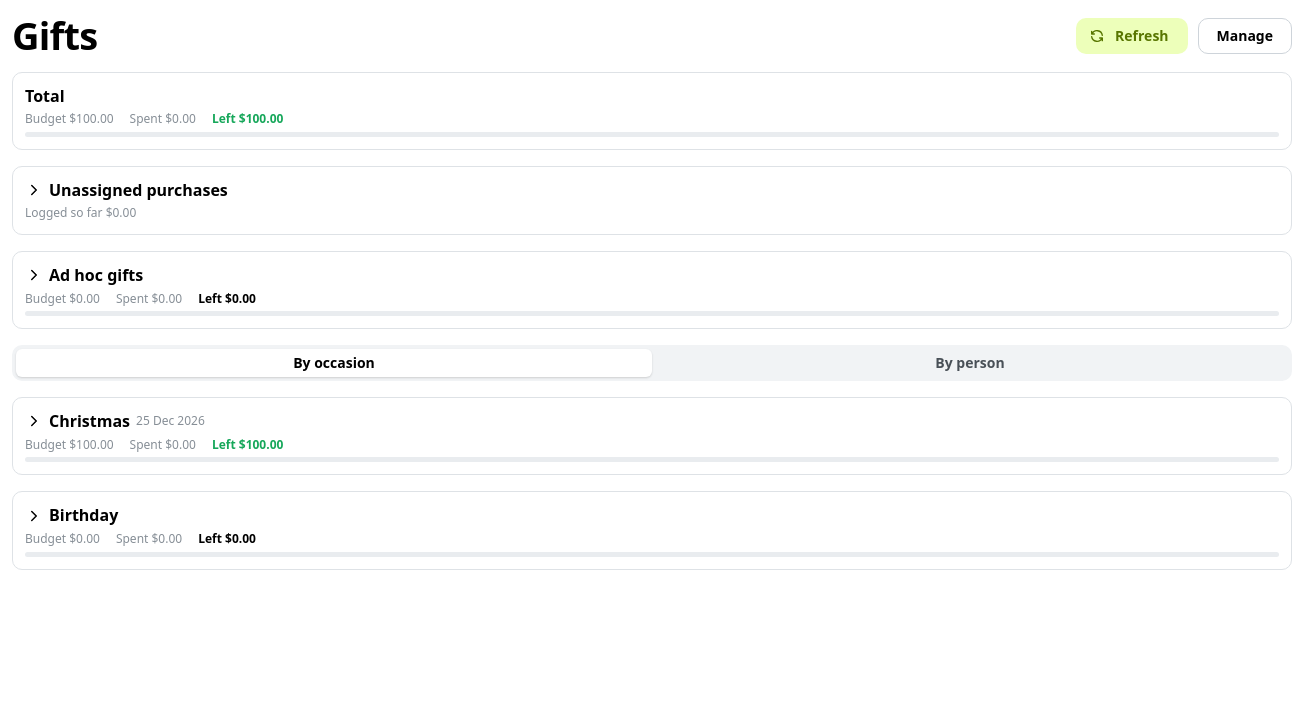
Test: GiftsScreen group budgets › shows an empty note for a group with no budgets
Click the button "Birthday Budget $0.00 Spent $0.00 Left $0.00": (84, 515) [25,504,1279,556]
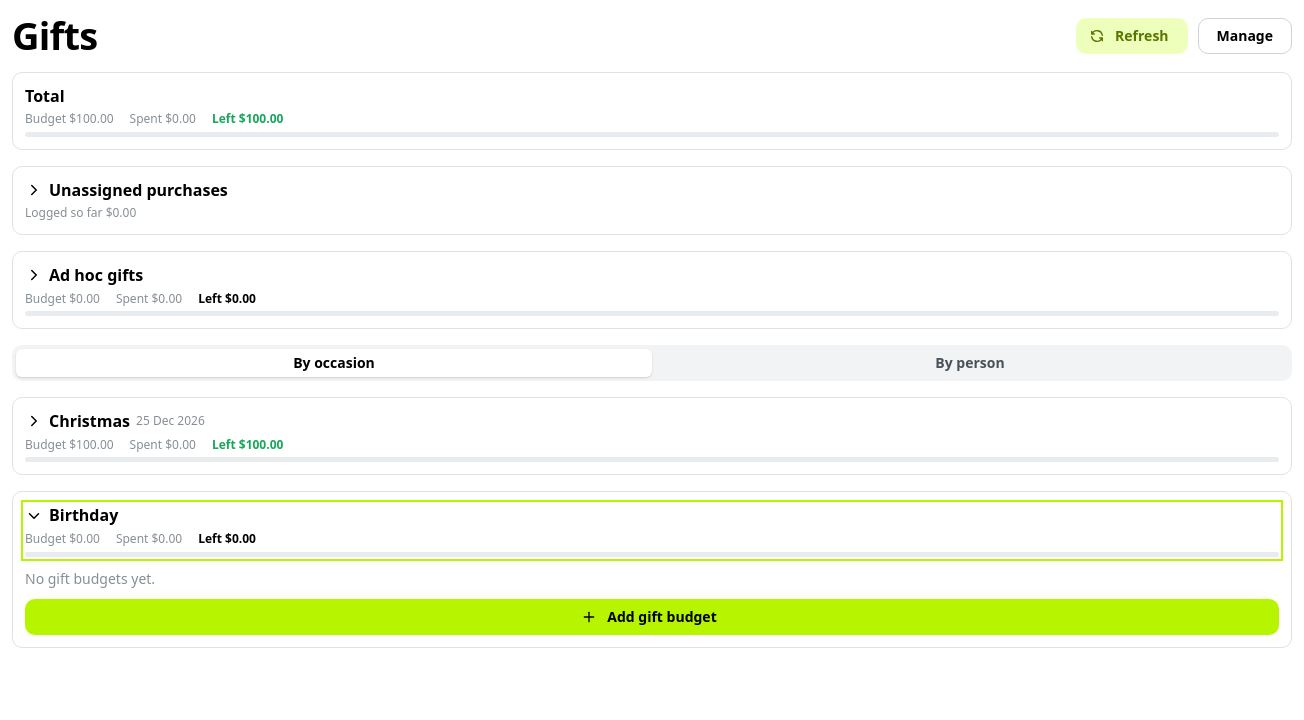
Expected: the text "No gift budgets yet." is shown, [25,568,155,588]
